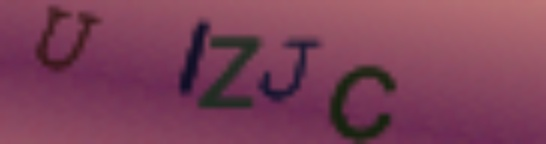C: (325, 62, 403, 143)
I: (171, 18, 216, 98)
J: (260, 35, 327, 102)
U: (33, 3, 105, 74)
Z: (196, 31, 266, 111)
